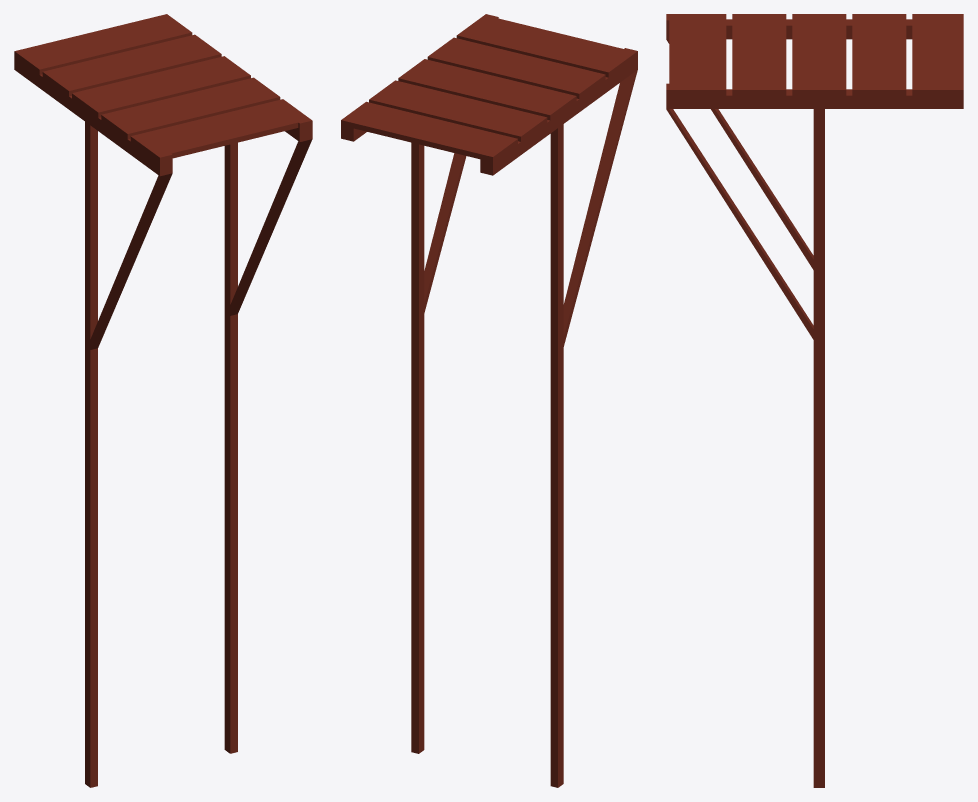
Rendered from Bridge.fbx.
3 views of the same model, side by side, from view 1: azimuth 30°, elevation 25°; view 2: azimuth 150°, elevation 25°; view 3: azimuth 270°, elevation 25° (orthographic). The views are drawn at different scales.
Visible parts, largest first — view 1: Bridge; view 2: Bridge; view 3: Bridge.
Part boxes in pixels (x1,y1,x2,y2): Bridge: (14,14,312,787); Bridge: (341,14,637,787); Bridge: (666,14,963,787).
Size of the model in its own units: 6 by 25.7 by 9.92.
